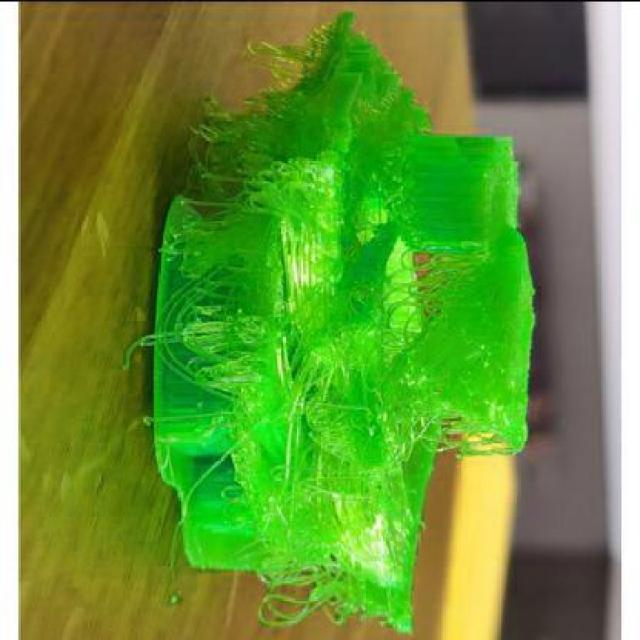Spaghetti: (121, 138, 544, 459), (216, 468, 433, 637), (198, 5, 442, 143)
